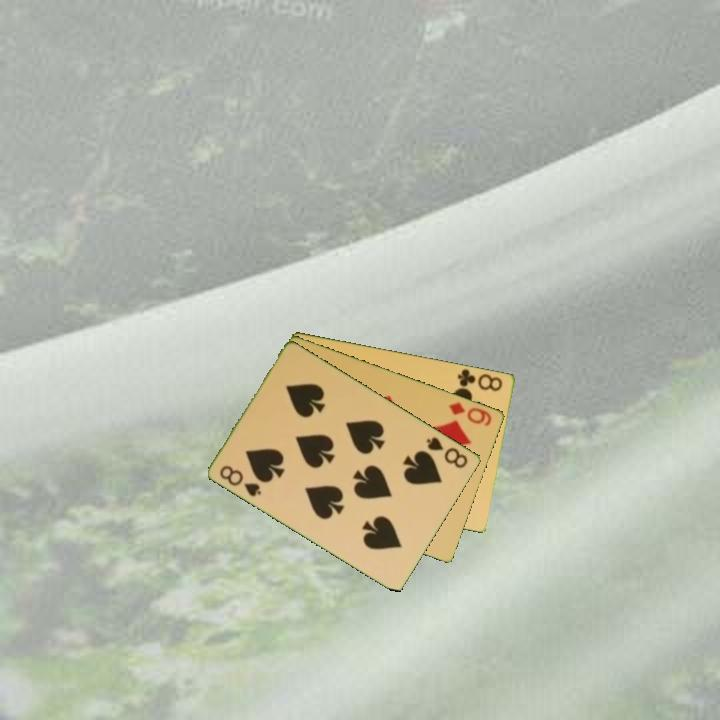6d: (445, 398, 495, 429)
8c: (454, 365, 506, 394)
8s: (216, 461, 265, 500), (423, 433, 471, 471)
